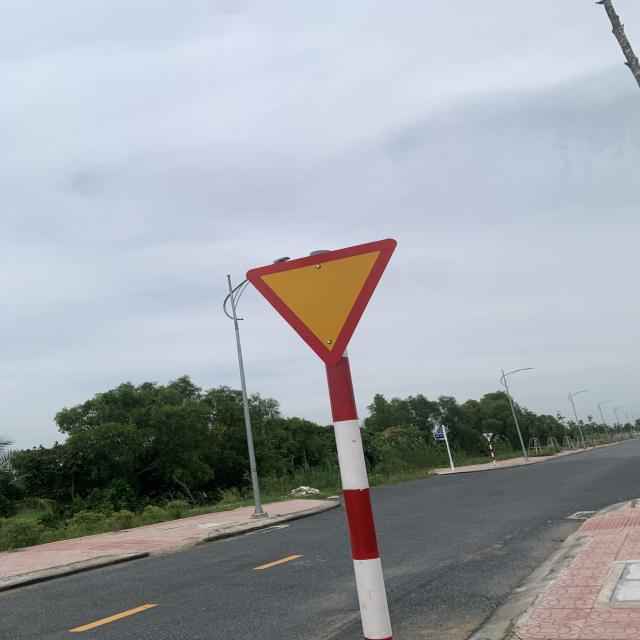Gioi_Han_Toc_Do_25: (249, 238, 397, 368)
